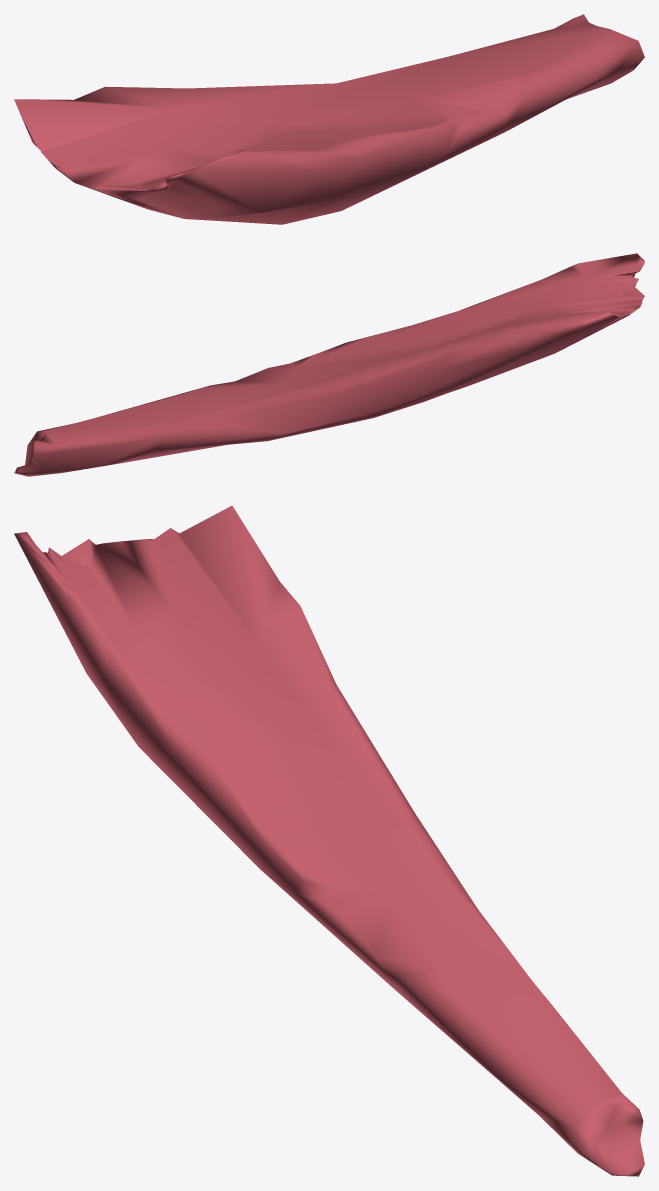
3 views of the same model, one above another, from view 1: azimuth 30°, elevation 25°; view 2: azimuth 150°, elevation 25°; view 3: azimuth 270°, elevation 25° (orthographic). The views are drawn at different scales.
Parts seen in each view (by area): view 1: 左侧拇短屈肌浅头; view 2: 左侧拇短屈肌浅头; view 3: 左侧拇短屈肌浅头.
Part boxes in pixels (x1,y1,x2,y2): 左侧拇短屈肌浅头: (14, 14, 644, 224); 左侧拇短屈肌浅头: (14, 253, 644, 476); 左侧拇短屈肌浅头: (14, 505, 644, 1176).
Bounding box in the file's own units: 0.064 × 0.0244 × 0.0455.
